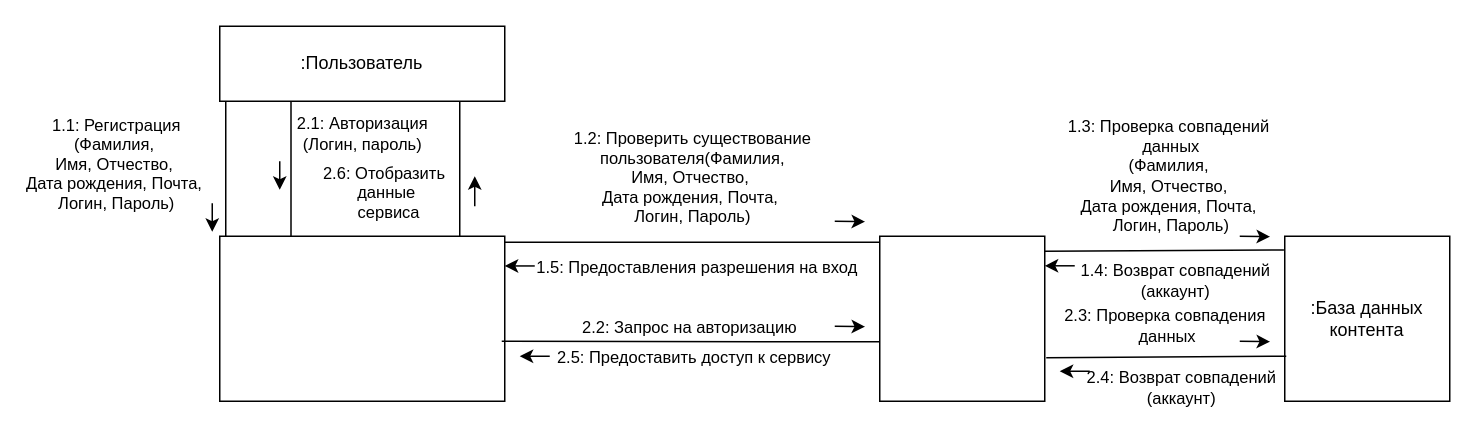
Some shapes in this 1476 by 434 pixel diagram are drawn without their labels. The centre of each missing label's shape, as x and y in pixels:
:Интерфейс сервиса: the point at 361,318
:Сервис регистрации/авторизации: the point at 961,318
